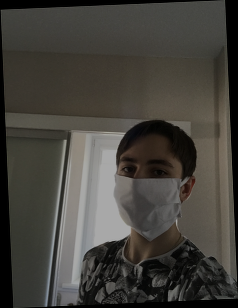with_mask: (114, 150, 184, 241)
